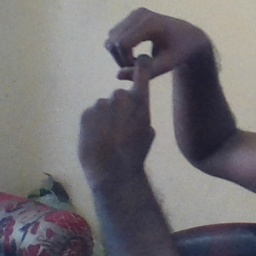Q: (76, 6, 198, 160)
